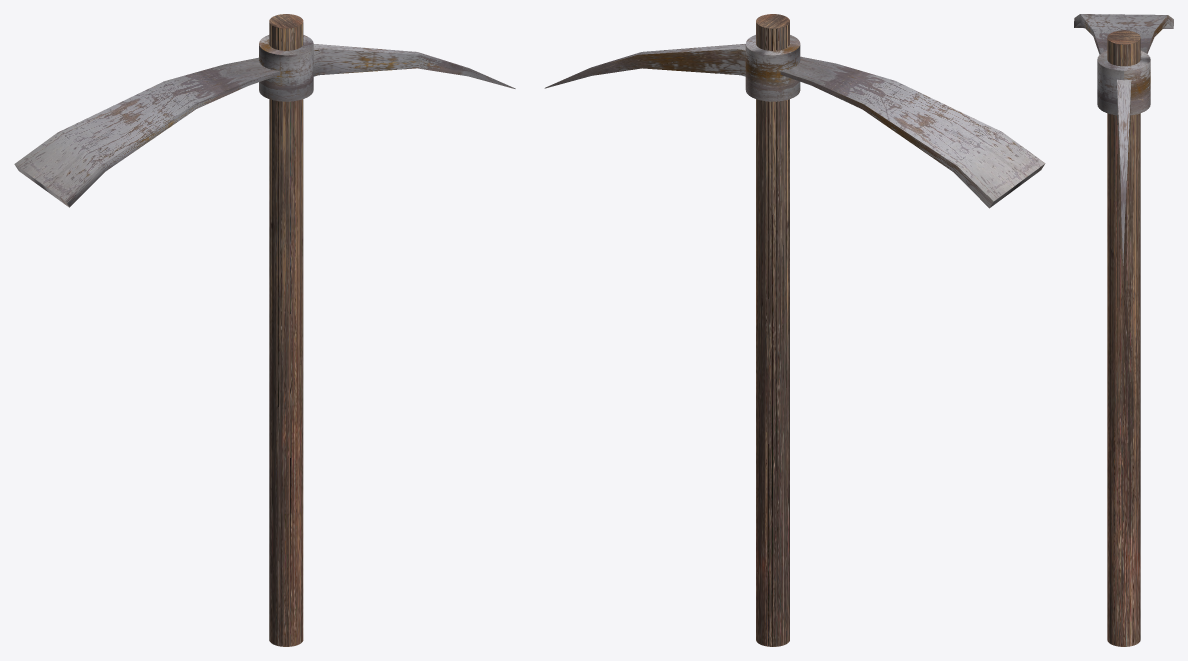
File: turuhasi.fbx
3 views of the same model, side by side, from view 1: azimuth 30°, elevation 25°; view 2: azimuth 150°, elevation 25°; view 3: azimuth 270°, elevation 25° (orthographic). The views are drawn at different scales.
Parts seen in each view (by area): view 1: スイープ_2; view 2: スイープ_2; view 3: スイープ_2.
Part boxes in pixels (x1,y1,x2,y2): スイープ_2: [14, 14, 515, 646]; スイープ_2: [544, 14, 1045, 646]; スイープ_2: [1074, 14, 1173, 646].
Bounding box in the file's own units: 161 × 200 × 30.03.
Materials: 2 (2 with a texture image).
